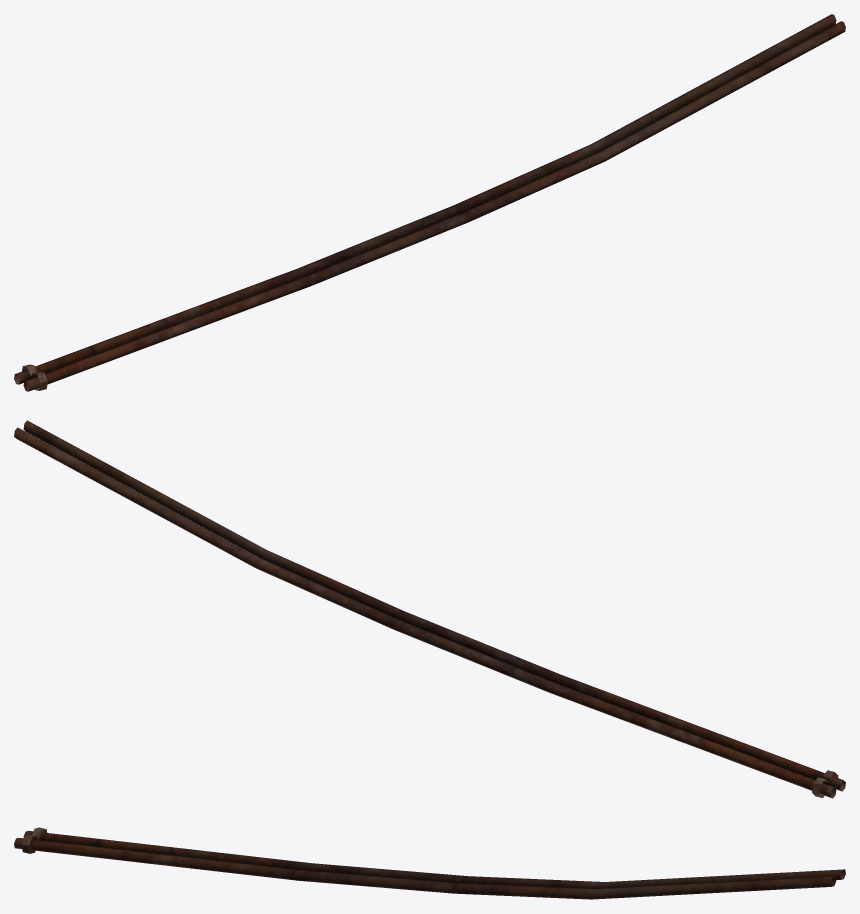
The model's file is RustedLongPipes.FBX.
The picture shows the model from 3 angles, top to bottom: view 1: azimuth 30°, elevation 25°; view 2: azimuth 150°, elevation 25°; view 3: azimuth 330°, elevation 25°; orthographic projection.
Visible parts, largest first — view 1: RustedLongPipes; view 2: RustedLongPipes; view 3: RustedLongPipes.
Part boxes in pixels (x1,y1,x2,y2): RustedLongPipes: (14, 14, 845, 391); RustedLongPipes: (14, 420, 845, 798); RustedLongPipes: (14, 827, 845, 899).
Bounding box in the file's own units: 1063 × 214 × 43.04.
